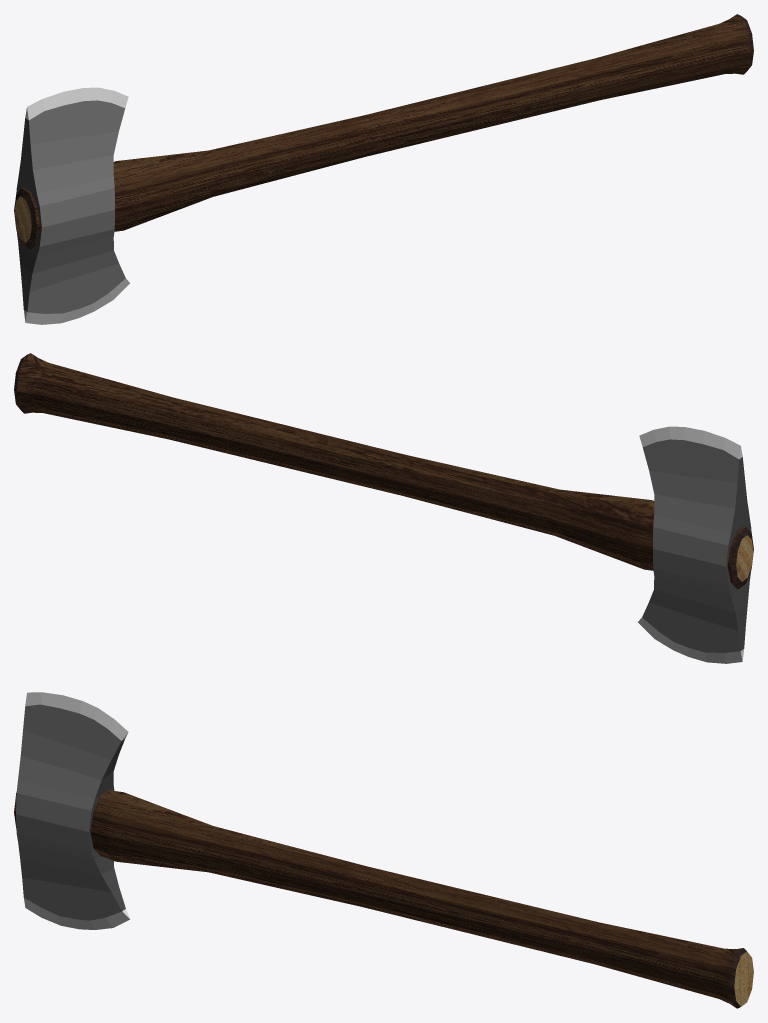
The model's file is FellingAxe.fbx.
The picture shows the model from 3 angles, top to bottom: view 1: azimuth 30°, elevation 25°; view 2: azimuth 150°, elevation 25°; view 3: azimuth 330°, elevation 25°; orthographic projection.
Parts seen in each view (by area): view 1: ZomboidFellingAxe; view 2: ZomboidFellingAxe; view 3: ZomboidFellingAxe.
Boxes of the visible parts, box(x1,y1,x2,y2) form: ZomboidFellingAxe: box(14, 14, 753, 324); ZomboidFellingAxe: box(14, 353, 753, 663); ZomboidFellingAxe: box(14, 692, 753, 1008).
Bounding box in the file's own units: 0.5841 × 0.1789 × 0.0366.
